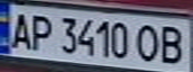0: (109, 19, 133, 60)
1: (93, 18, 112, 57)
3: (54, 15, 78, 55)
4: (75, 16, 96, 56)
A: (6, 9, 36, 51)
B: (154, 21, 190, 65)
O: (133, 21, 163, 62)
P: (27, 11, 57, 52)
